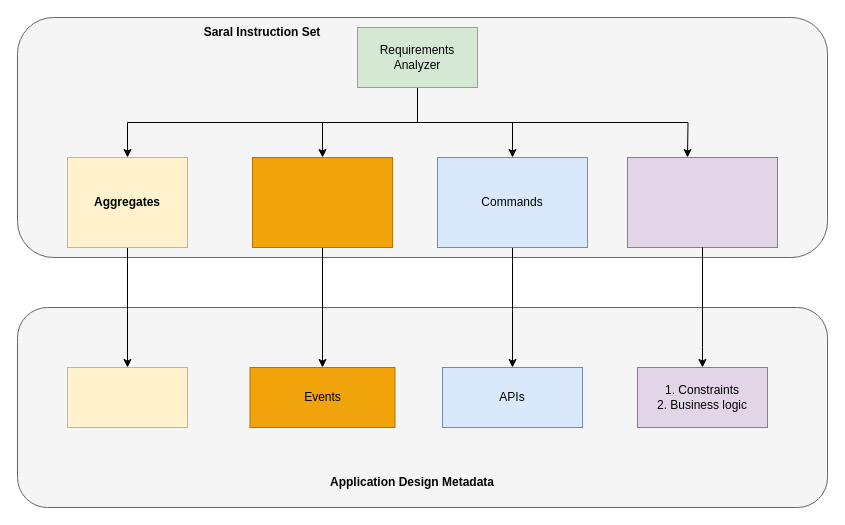
The diagram is 845 pixels wide and 525 high, and some of its shapes have lost their labels. Each missing label, with the centre of its shape:
"Domain events" belongs at pixel 322 202.
"Policies" belongs at pixel 702 202.
"Services" belongs at pixel 127 397.
